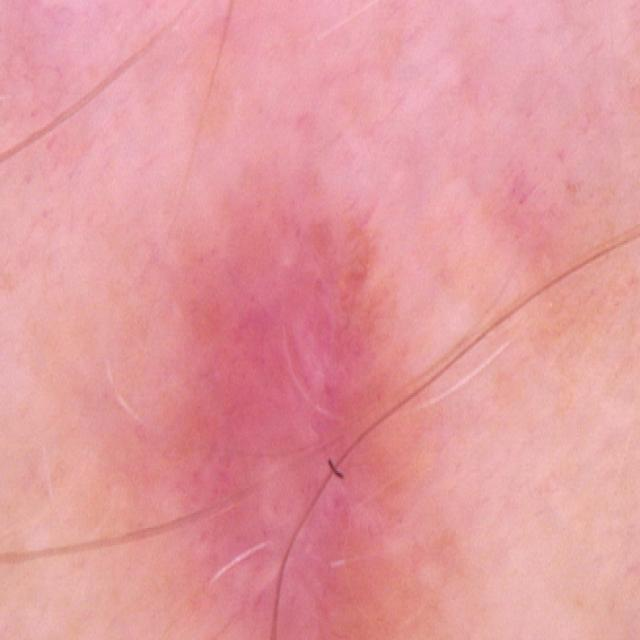Dermatofibroma: (71, 174, 477, 640)
